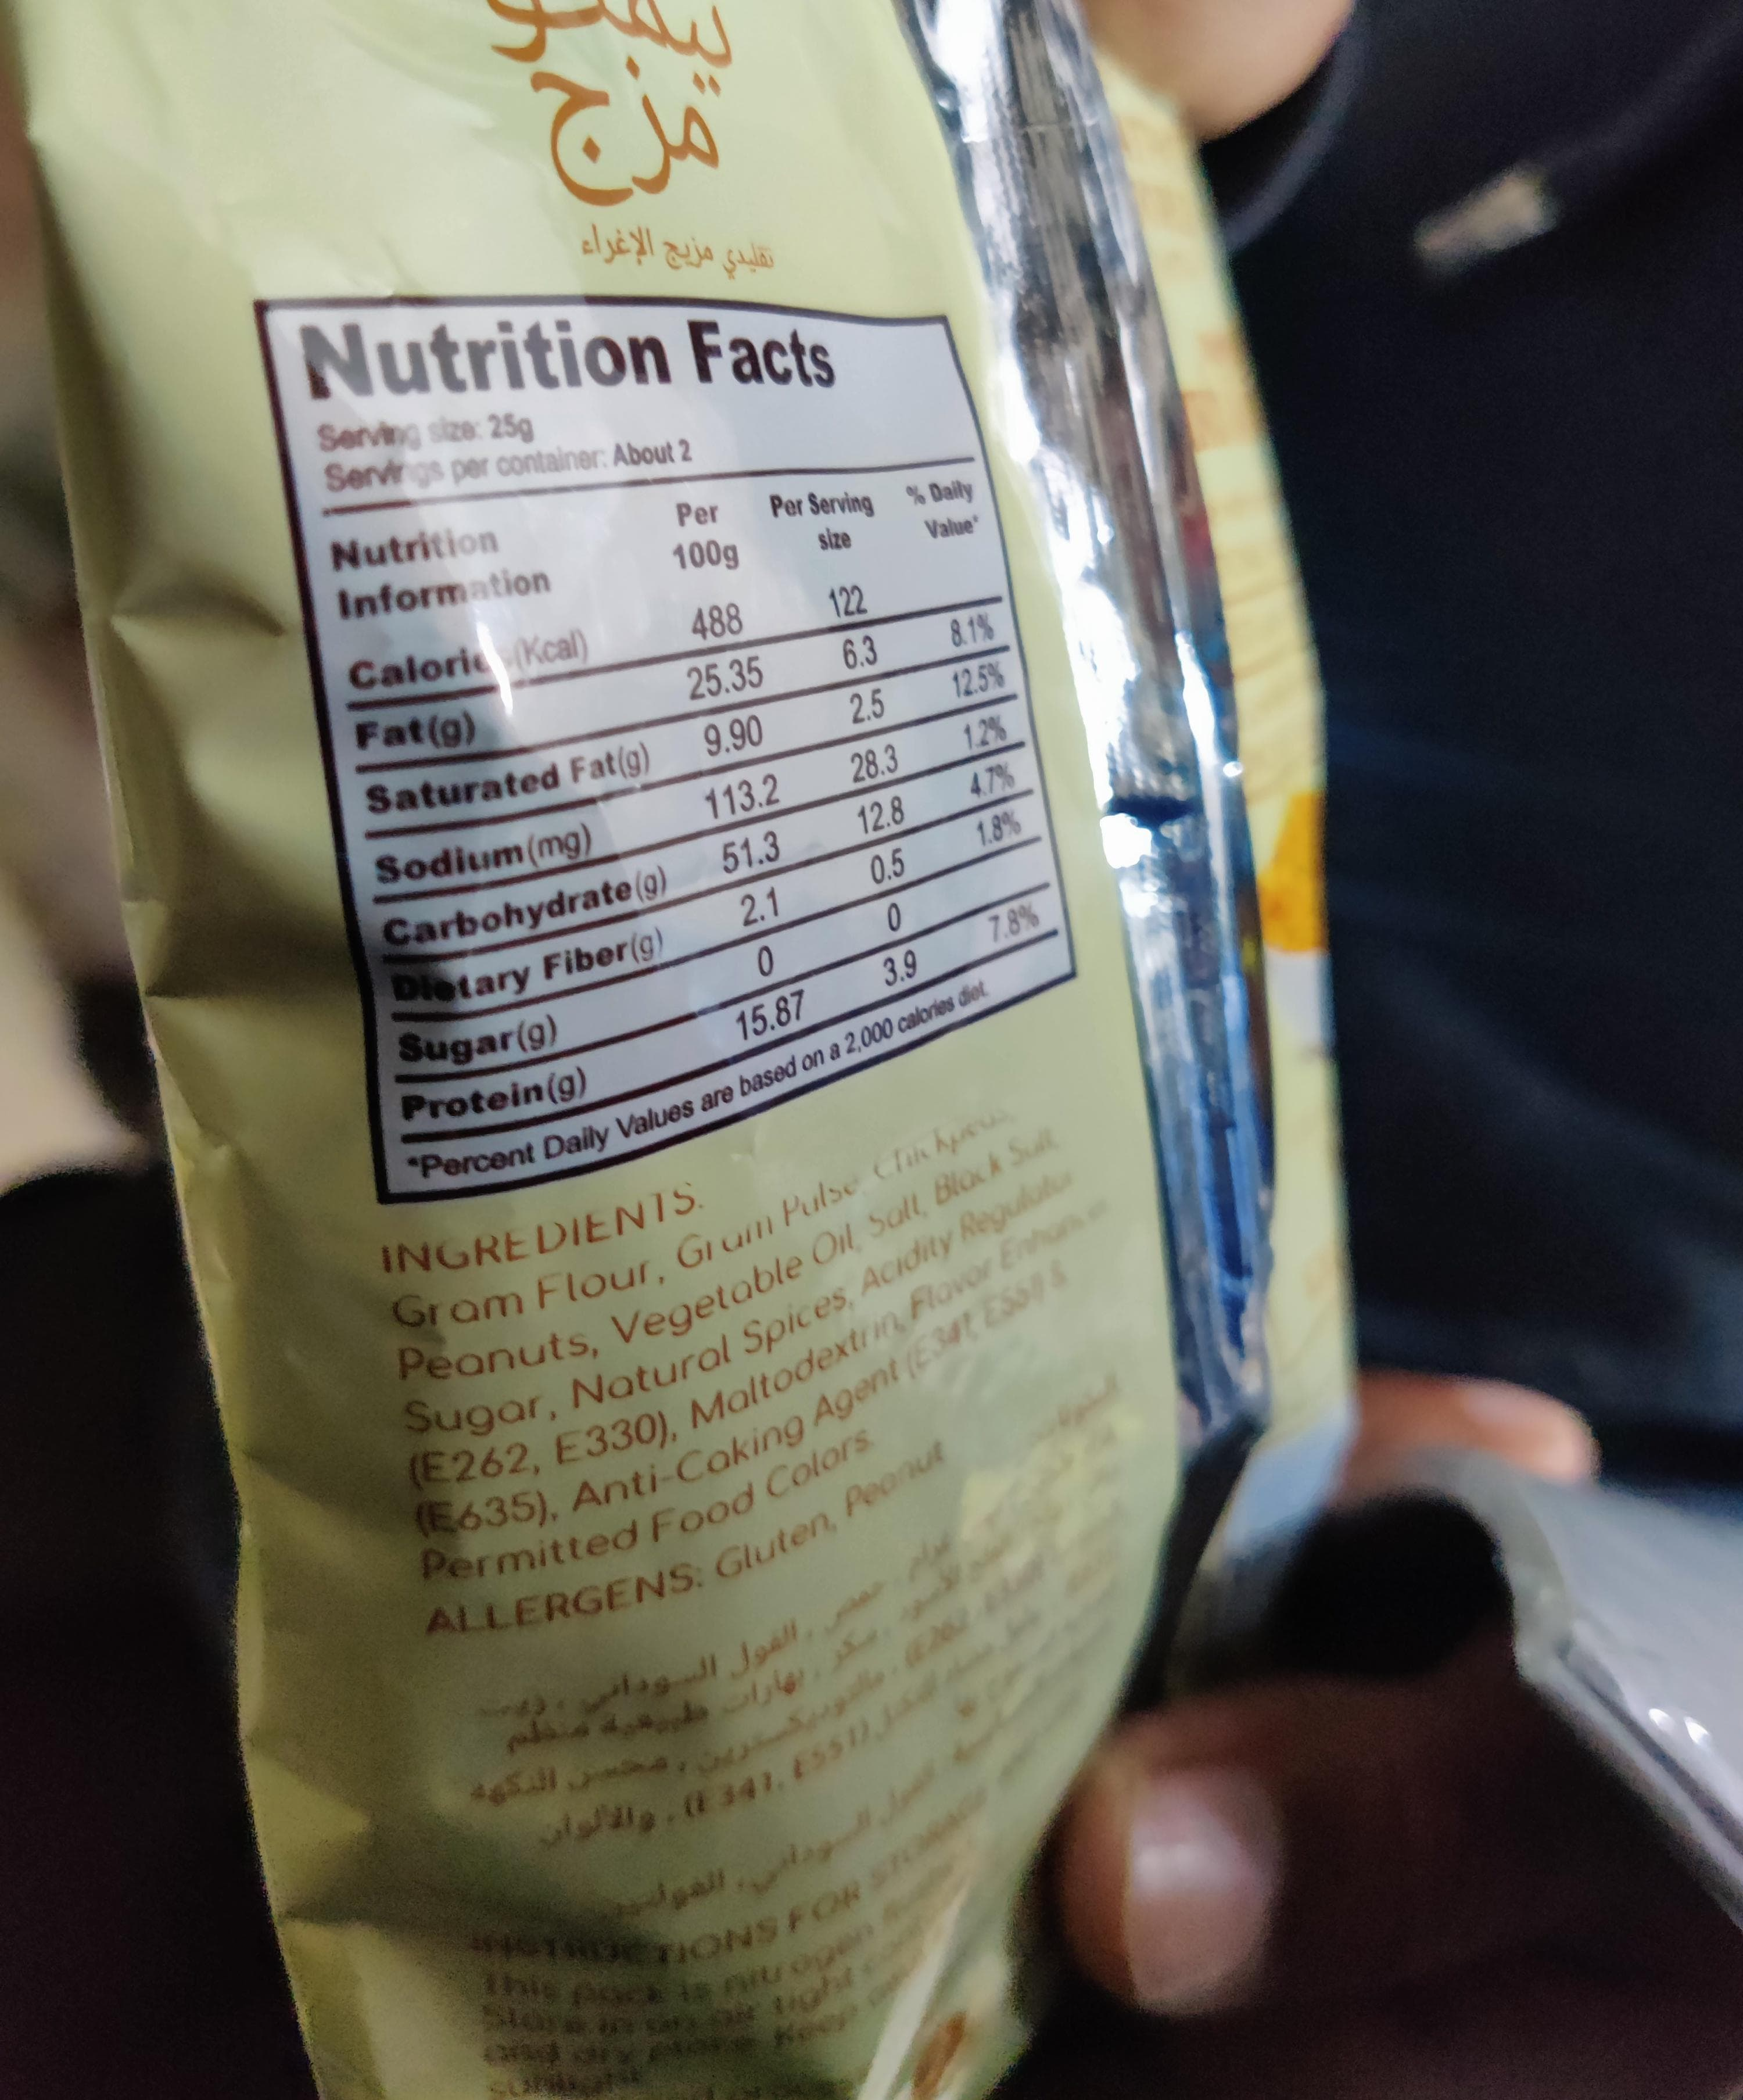table: (246, 298, 1077, 1212)
